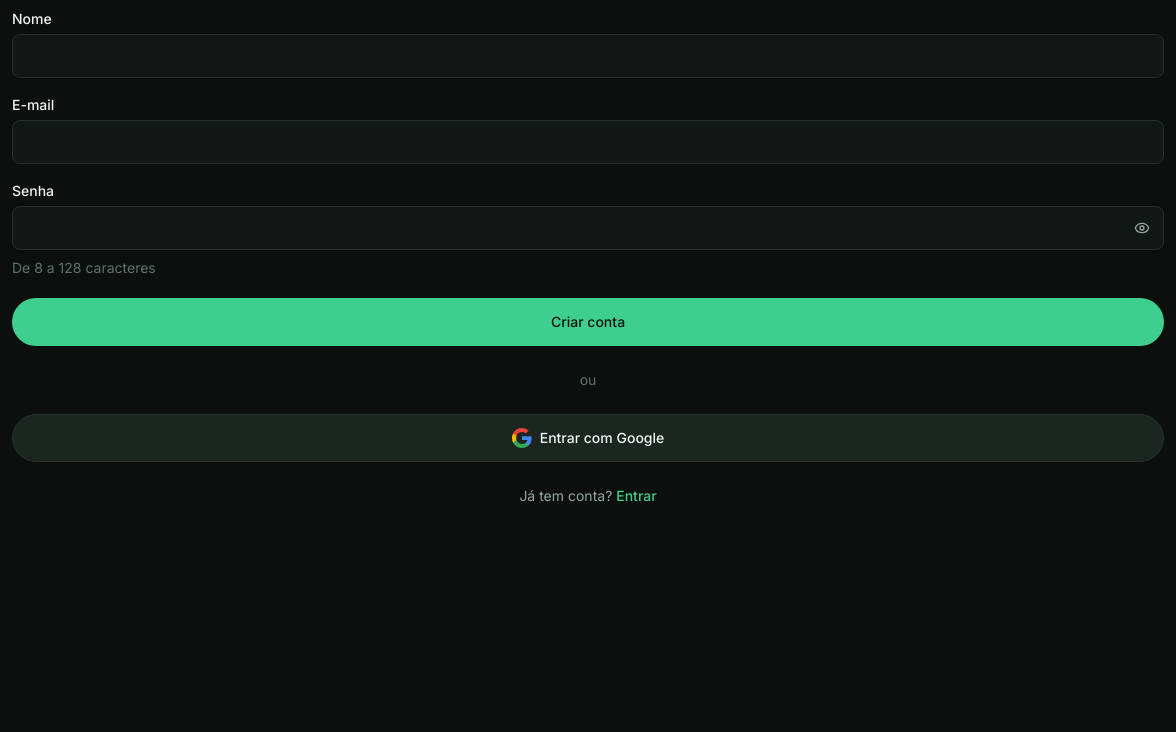
Scenario: RegisterForm › valida senha curta no cliente
Type "Ana" into the field labelled "Nome" at (588, 56), box [12,34,1164,78]
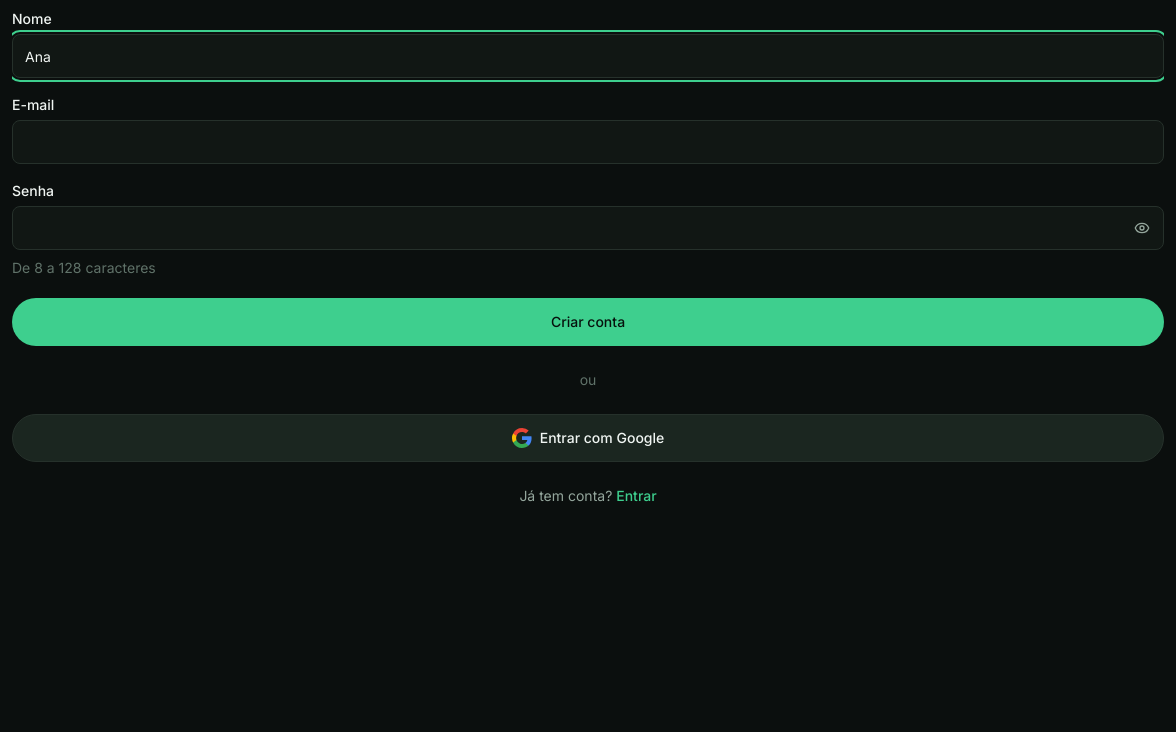
Type "ana@a.com" into the field labelled "E-mail" at (588, 142), box [12,120,1164,164]
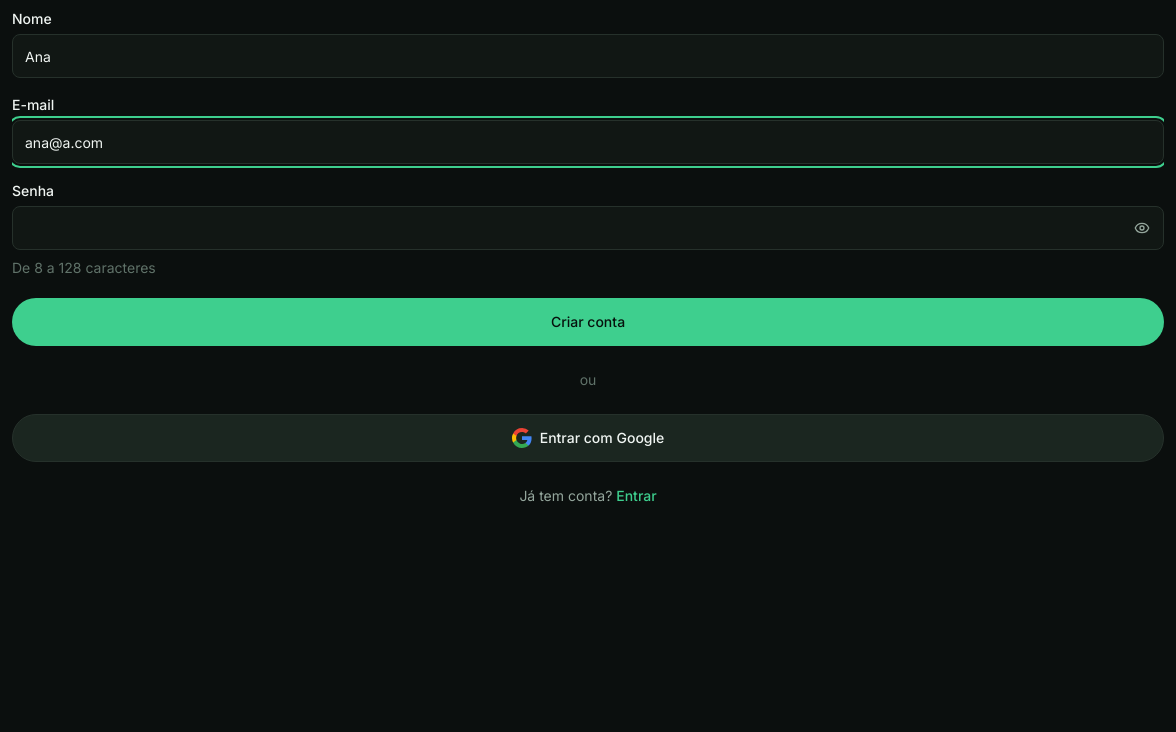
Type "123" into the password field labelled "Senha" at (588, 228), box [12,206,1164,250]
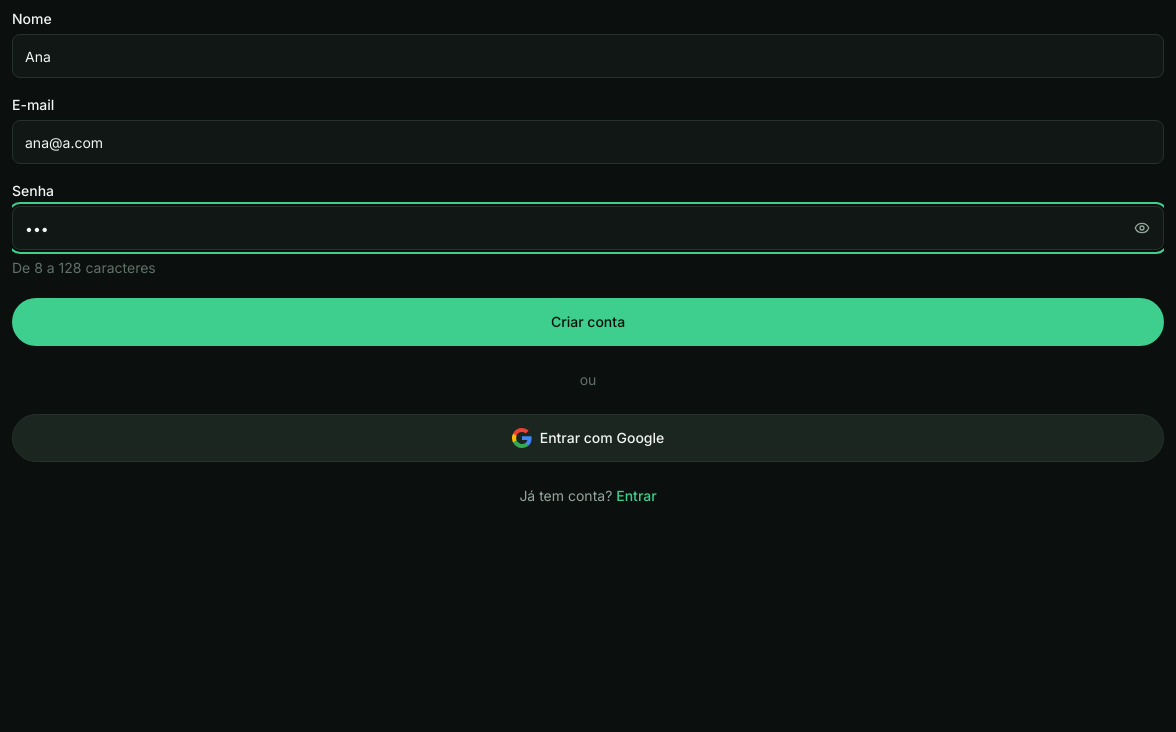
Click the button "Criar conta" at (588, 322), box [12,298,1164,346]
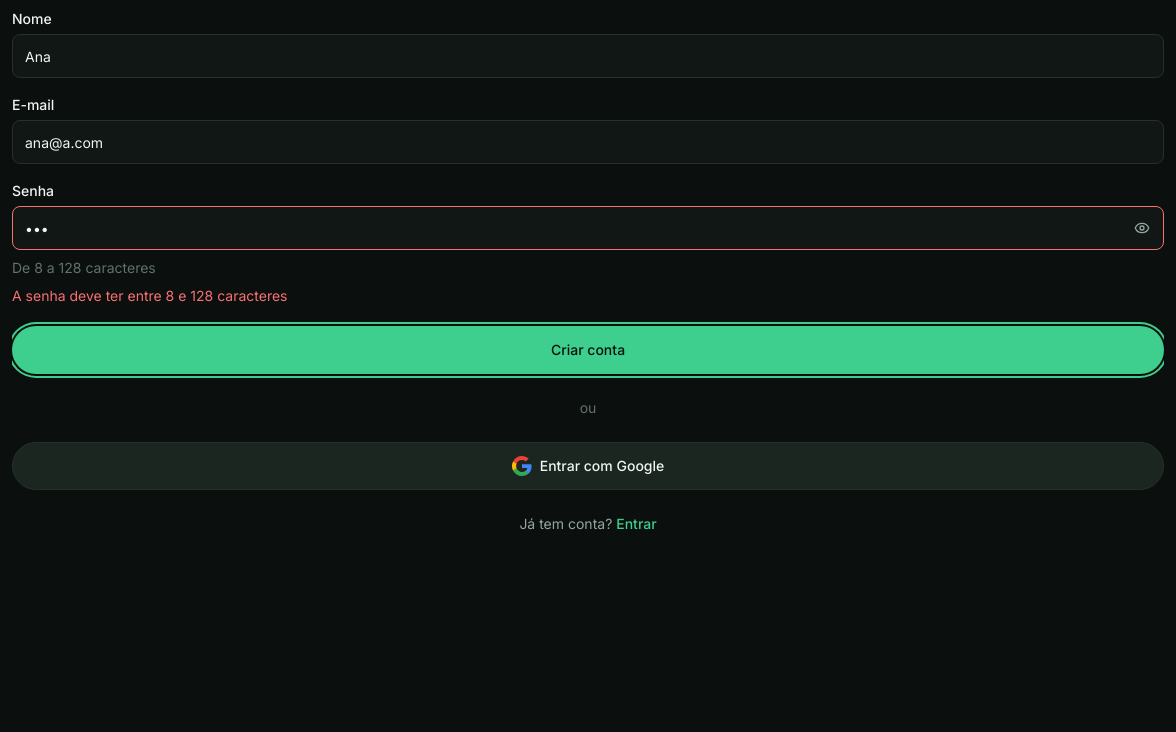
expect the text "A senha deve ter entre 8 e 128 caracteres" is shown: met, box [12,287,288,304]
